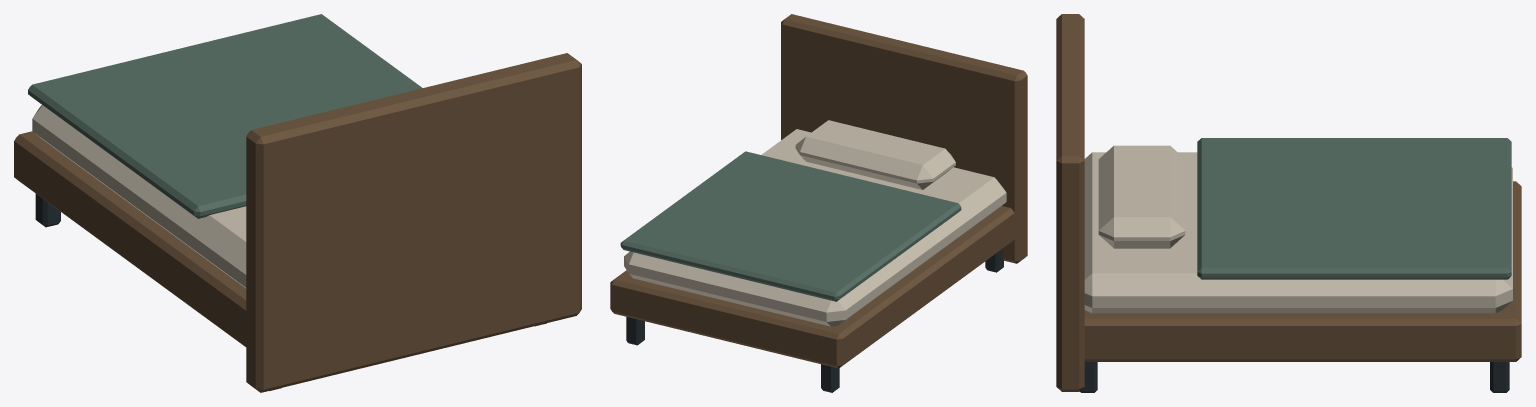
Rendered from bed-iedD0U-X.glb.
3 renders of one model, left to right at view 1: azimuth 30°, elevation 25°; view 2: azimuth 150°, elevation 25°; view 3: azimuth 270°, elevation 25°, orthographic. The views are drawn at different scales.
Visible parts, largest first — view 1: tapered foot; view 2: tapered foot; view 3: tapered foot.
Boxes of the visible parts, box(x1,y1,x2,y2) form: tapered foot: box(14, 14, 581, 392); tapered foot: box(610, 14, 1027, 392); tapered foot: box(1056, 14, 1521, 392).
Size of the model in its own units: 1.6 by 1.25 by 2.15.
